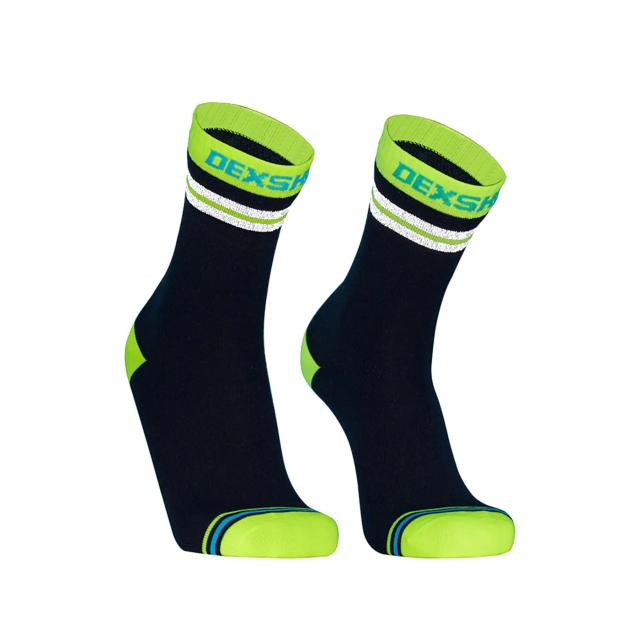sock: (123, 100, 340, 558), (299, 112, 516, 558)
